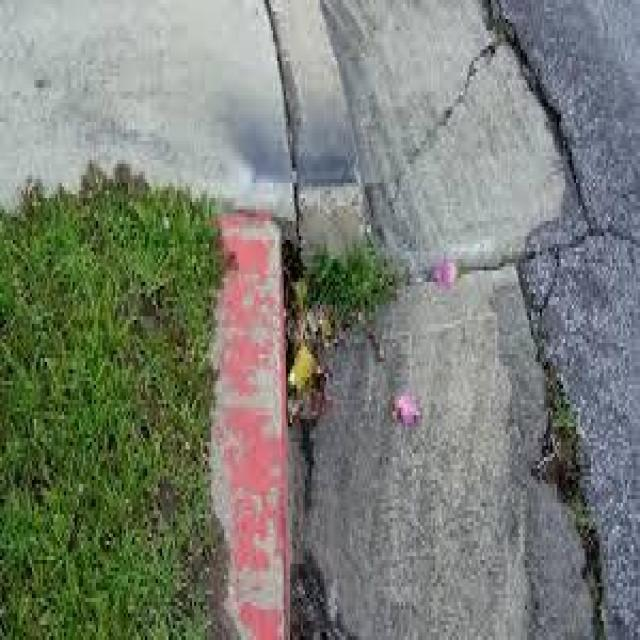bump: (177, 150, 332, 640)
